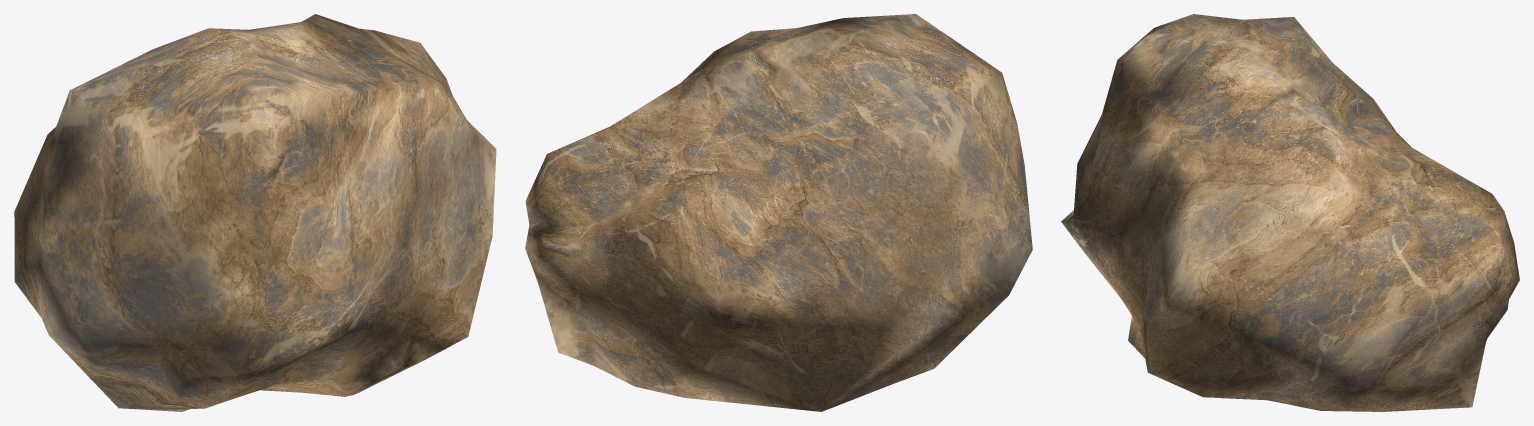
3 views of the same model, side by side, from view 1: azimuth 30°, elevation 25°; view 2: azimuth 150°, elevation 25°; view 3: azimuth 270°, elevation 25° (orthographic). The views are drawn at different scales.
Visible parts, largest first — view 1: Cliff_Rock_Model; view 2: Cliff_Rock_Model; view 3: Cliff_Rock_Model.
Boxes of the visible parts, bbox=[...] form: Cliff_Rock_Model: bbox=[14, 14, 496, 411]; Cliff_Rock_Model: bbox=[525, 14, 1032, 411]; Cliff_Rock_Model: bbox=[1061, 14, 1519, 411].
Bounding box in the file's own units: 106 × 79.6 × 103.
1 material, 1 textured.
